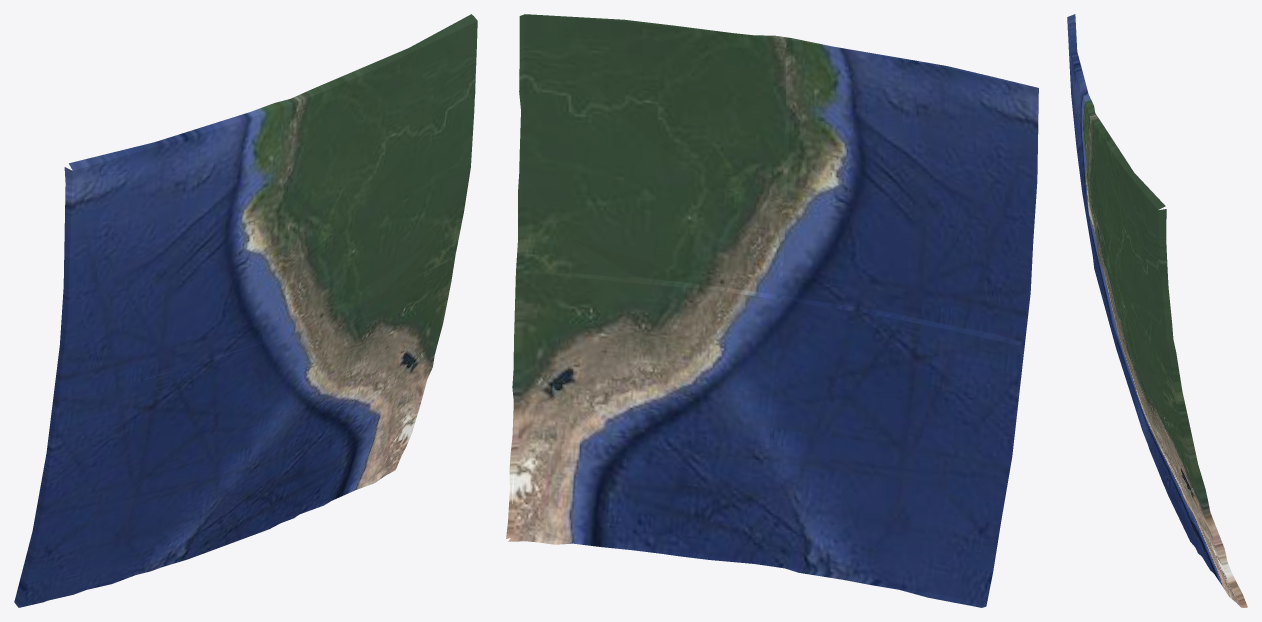
3 views of the same model, side by side, from view 1: azimuth 30°, elevation 25°; view 2: azimuth 150°, elevation 25°; view 3: azimuth 270°, elevation 25° (orthographic). The views are drawn at different scales.
Size of the model in its own units: 2467909 by 2458729 by 966965.
1 material, 1 textured.
